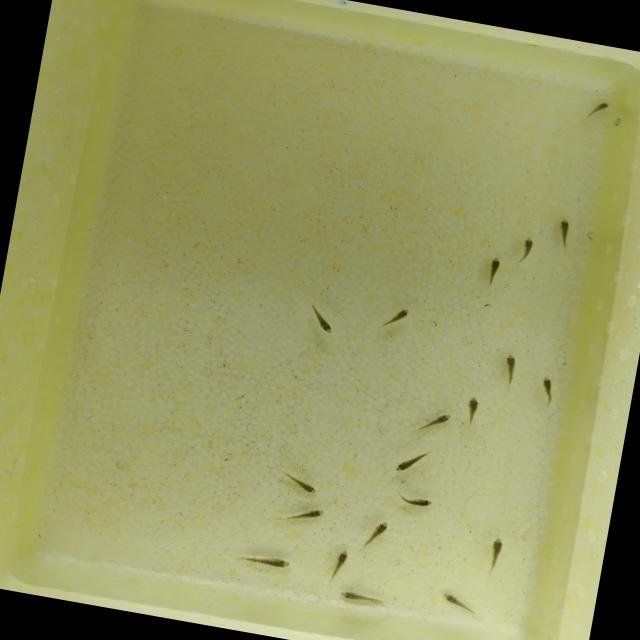fingerling: (240, 546, 296, 574), (391, 446, 429, 478), (333, 584, 385, 607), (286, 502, 332, 527), (360, 514, 391, 550), (551, 214, 576, 258), (390, 490, 443, 510), (434, 590, 478, 614), (580, 96, 618, 122), (310, 308, 340, 340), (484, 533, 508, 571), (420, 408, 456, 433), (380, 304, 413, 331), (328, 547, 352, 580), (285, 474, 321, 496), (512, 235, 538, 263), (484, 252, 506, 282), (536, 375, 559, 403), (500, 352, 518, 386), (462, 392, 482, 422)
